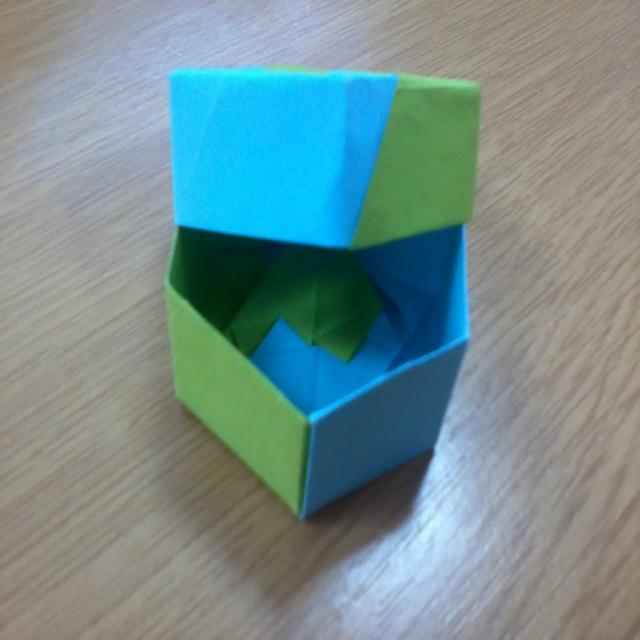Box: (150, 55, 488, 521)
